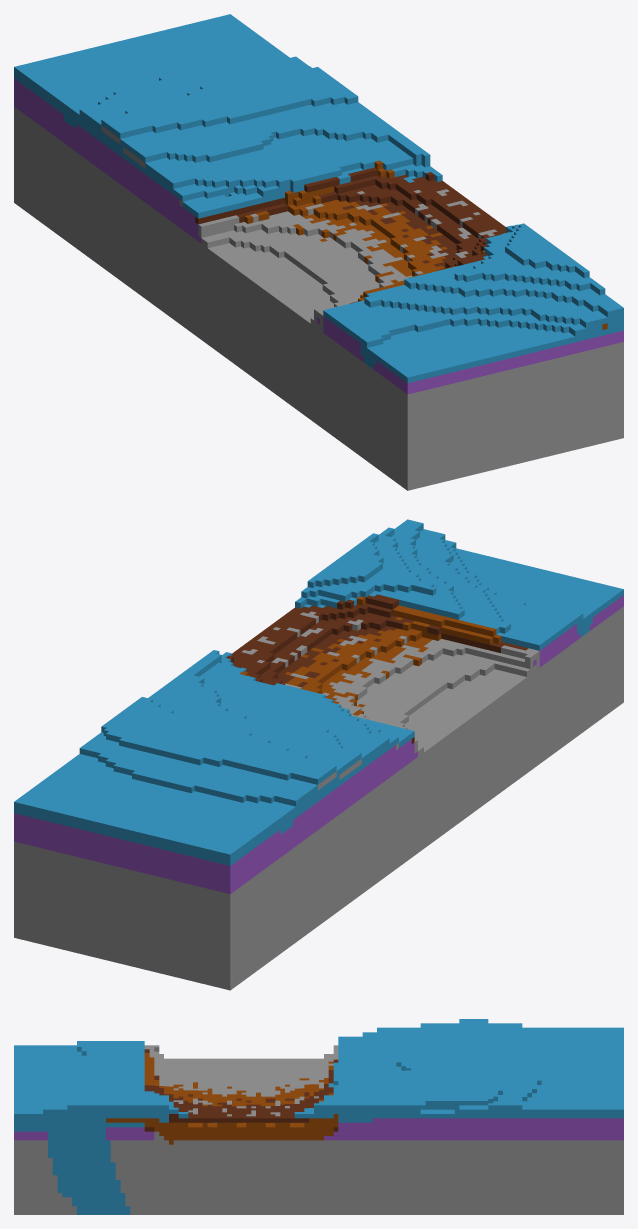
File: level 1 - Part 2 - Naast.obj
3 views of the same model, one above another, from view 1: azimuth 30°, elevation 25°; view 2: azimuth 150°, elevation 25°; view 3: azimuth 270°, elevation 25° (orthographic). The views are drawn at different scales.
Bounding box in the file's own units: 40 × 26 × 126.
Materials: 1 (1 with a texture image).
